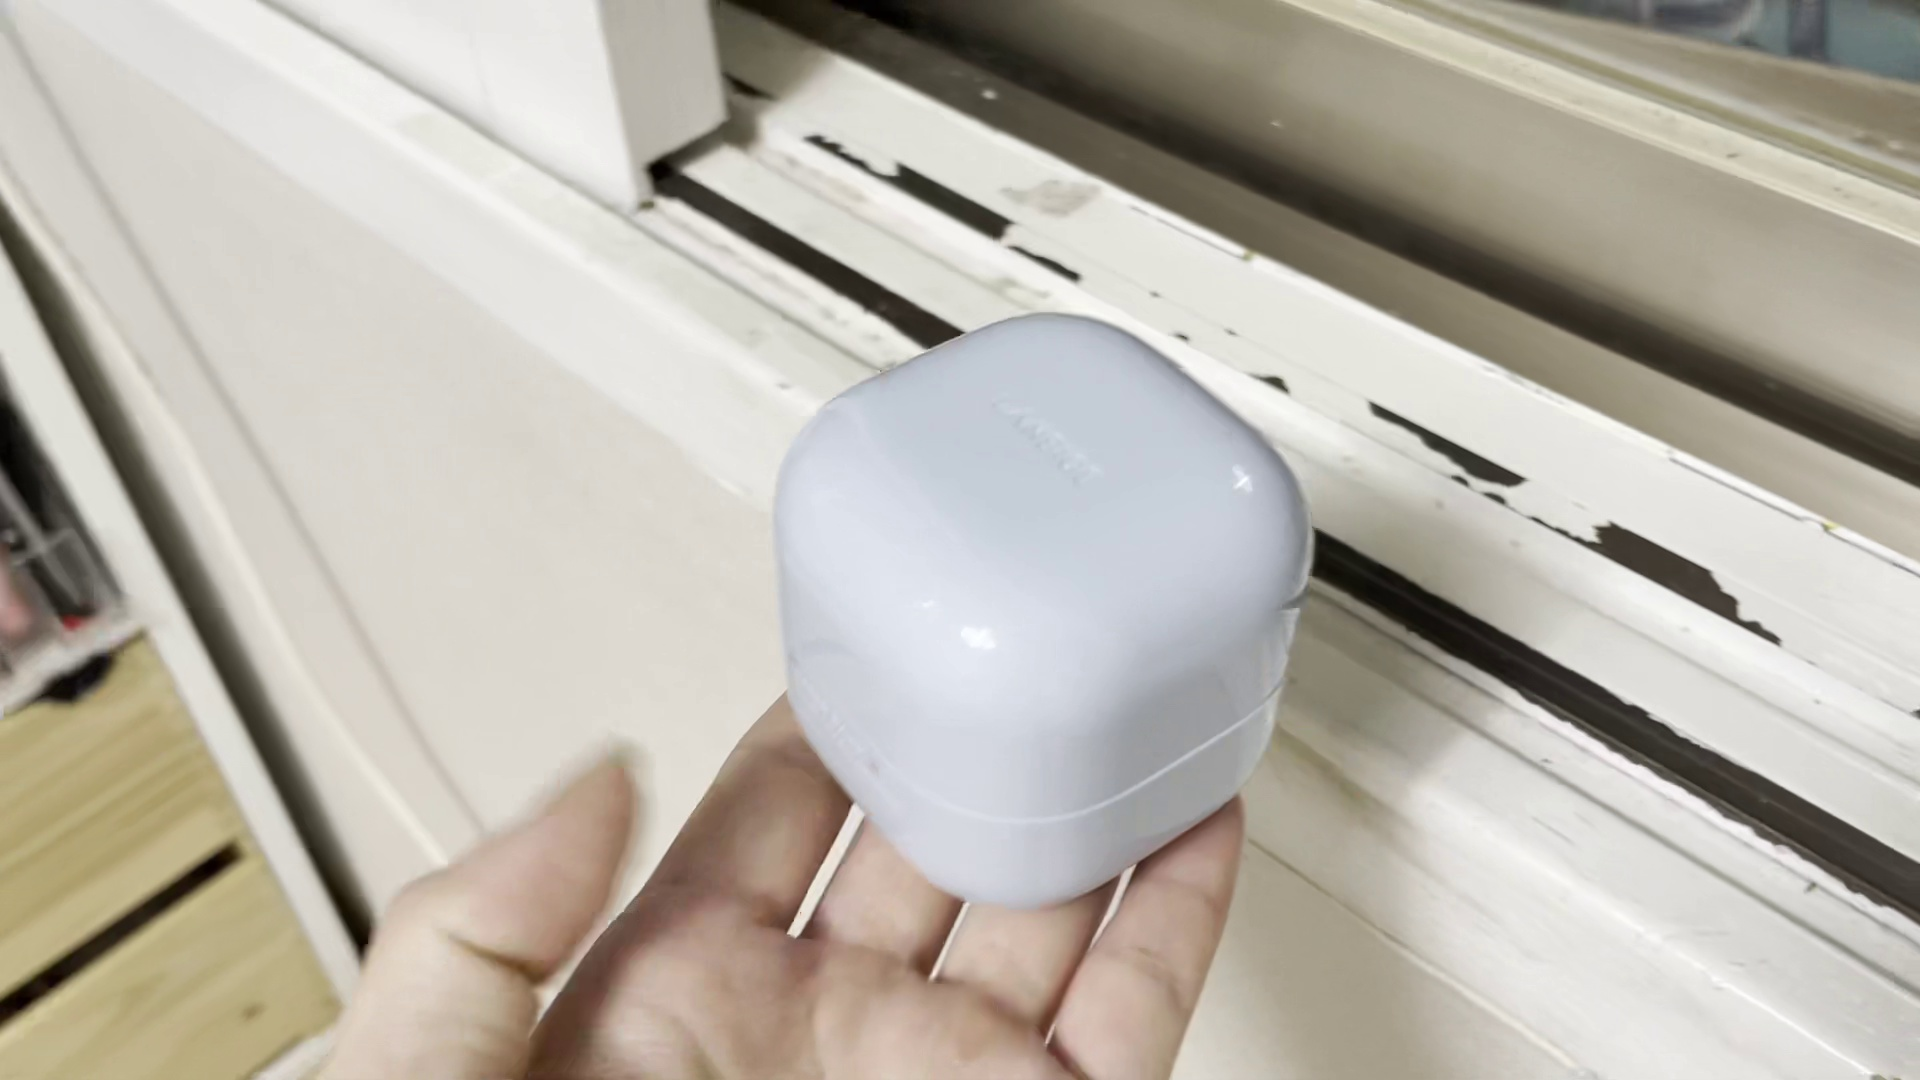cream: (773, 311, 1309, 907)
